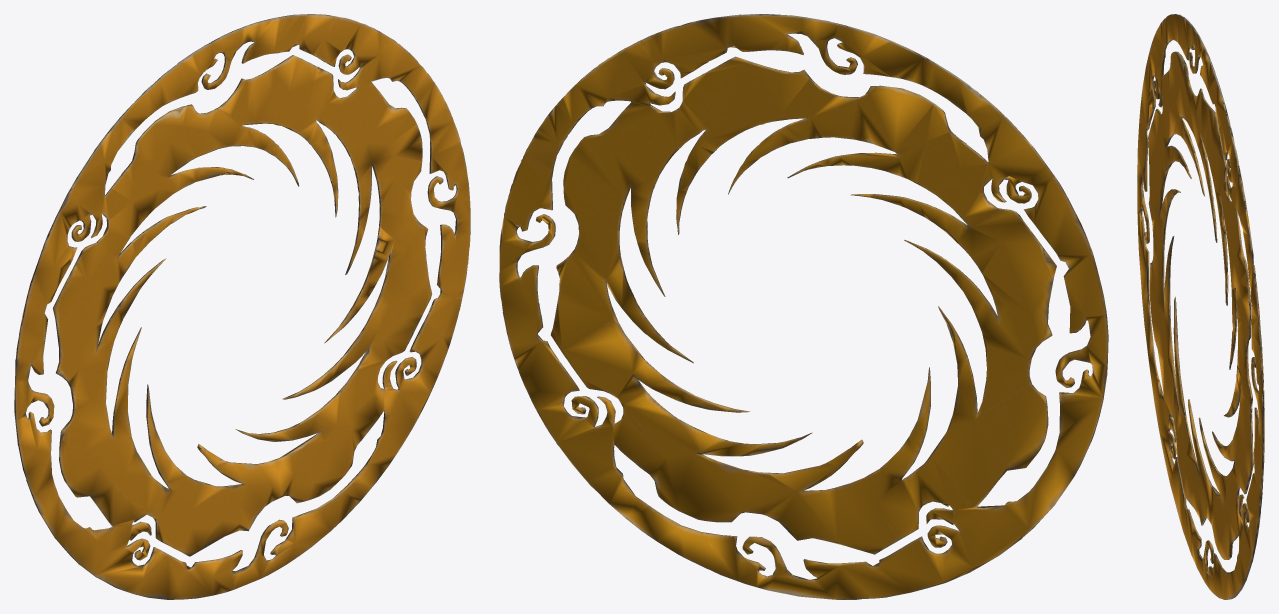
Rendered from 05-sunbird.glb.
3 renders of one model, left to right at view 1: azimuth 30°, elevation 25°; view 2: azimuth 150°, elevation 25°; view 3: azimuth 270°, elevation 25°, orthographic. The views are drawn at different scales.
Visible parts, largest first — view 1: Meshy_AI_Golden_Vortex_Emblem_0817192120_texture; view 2: Meshy_AI_Golden_Vortex_Emblem_0817192120_texture; view 3: Meshy_AI_Golden_Vortex_Emblem_0817192120_texture.
Boxes of the visible parts, bbox=[...] form: Meshy_AI_Golden_Vortex_Emblem_0817192120_texture: bbox=[14, 14, 470, 599]; Meshy_AI_Golden_Vortex_Emblem_0817192120_texture: bbox=[499, 14, 1108, 599]; Meshy_AI_Golden_Vortex_Emblem_0817192120_texture: bbox=[1137, 14, 1264, 599].
Bounding box in the file's own units: 0.5462 × 0.5594 × 0.1212.
Materials: 1 (1 with a texture image).
